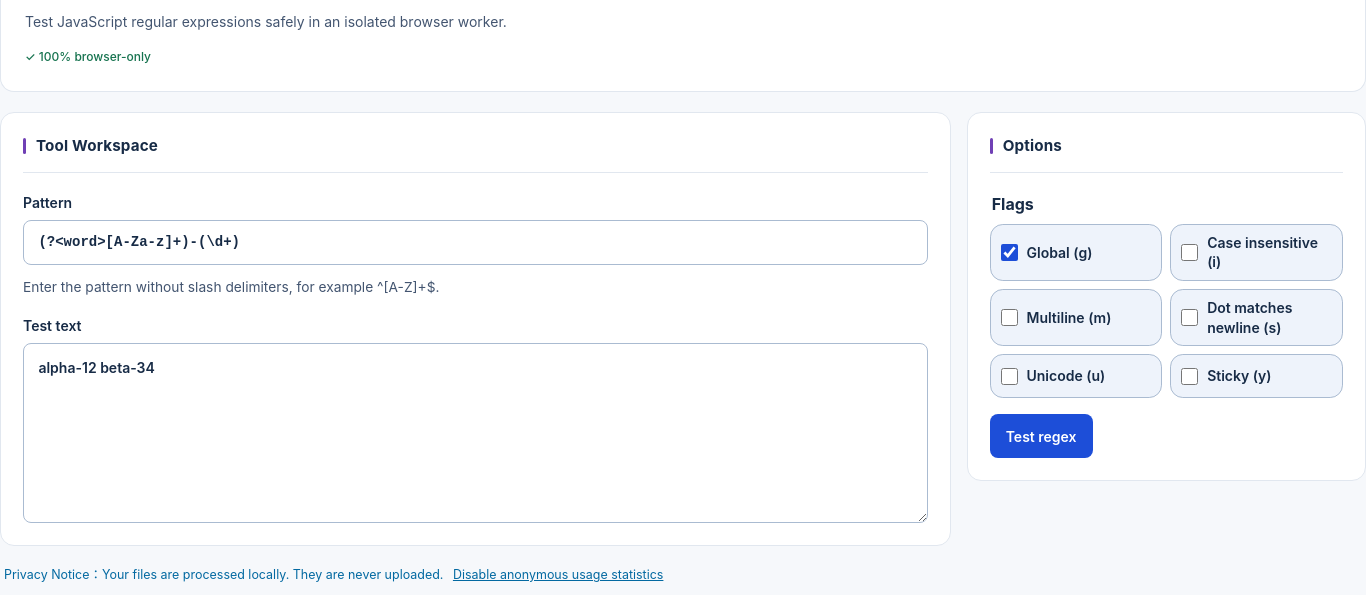
Test: RegexTesterPage › associates invalid-pattern and timeout errors with the workflow
The width and height of the screenshot is (1366, 595).
What coordinates should you click on to do the following:
click the button "Test regex"
I would click on:
 (1041, 436)
Its box is [990,414,1092,458].
(page scrolled)
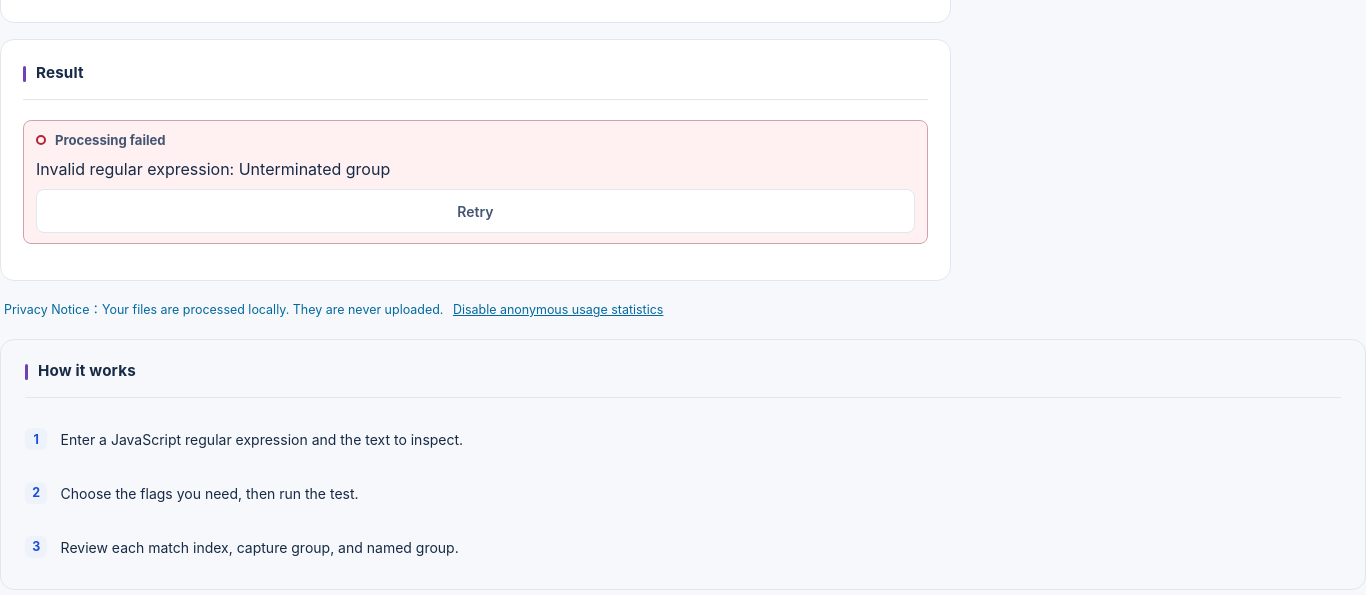
Result: the message reads "Invalid regular expression: Unterminated group" at [36,159,390,179]
What coordinates should you click on to do the following:
click the button "Retry"
I would click on:
 (475, 211)
Its box is [36,189,915,233].
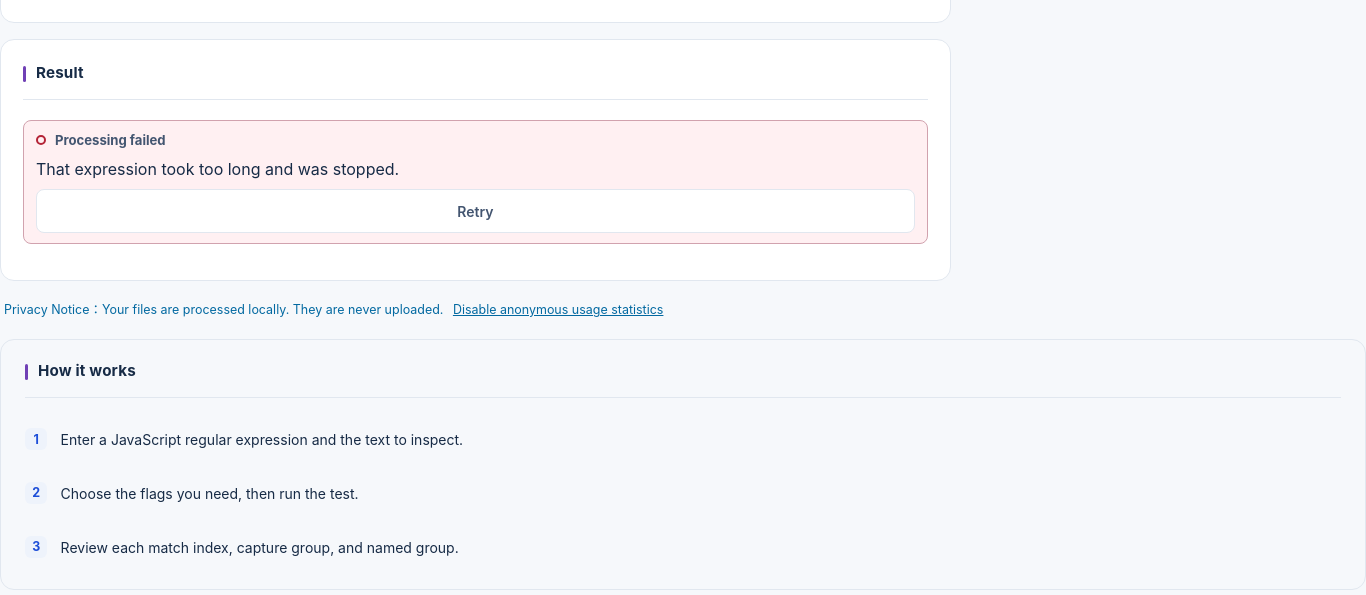
Result: the message reads "That expression took too long and was stopped." at [36,159,399,179]
